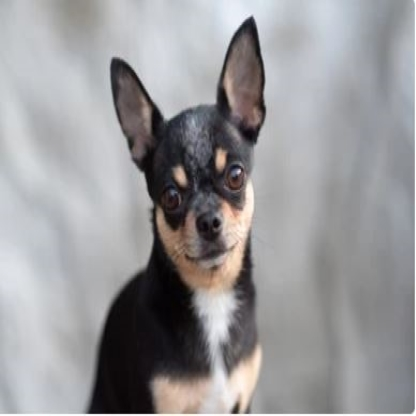chihuahua: (77, 12, 273, 416)
